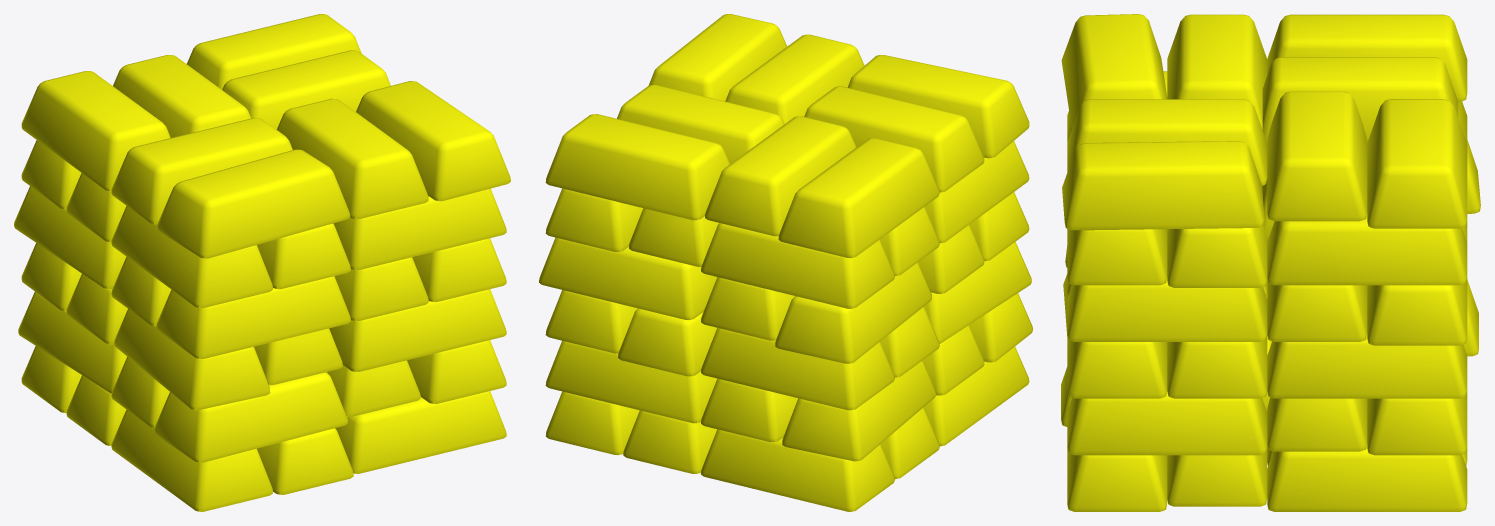
Rendered from kaykit-copper-bars-stack-large.glb.
3 views of the same model, side by side, from view 1: azimuth 30°, elevation 25°; view 2: azimuth 150°, elevation 25°; view 3: azimuth 270°, elevation 25° (orthographic). The views are drawn at different scales.
Parts seen in each view (by area): view 1: Copper_Bars_Stack_Large; view 2: Copper_Bars_Stack_Large; view 3: Copper_Bars_Stack_Large.
Part boxes in pixels (x1,y1,x2,y2): Copper_Bars_Stack_Large: (14, 14, 510, 511); Copper_Bars_Stack_Large: (539, 14, 1032, 511); Copper_Bars_Stack_Large: (1061, 14, 1480, 511).
Bounding box in the file's own units: 1.66 × 1.5 × 1.68.
